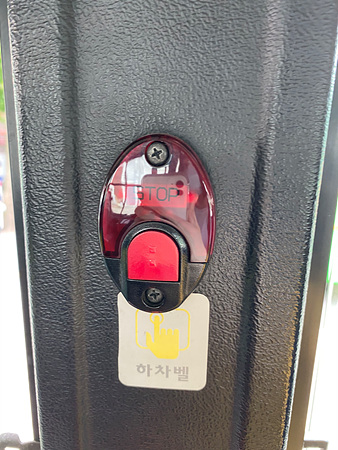bell: (100, 132, 215, 312)
